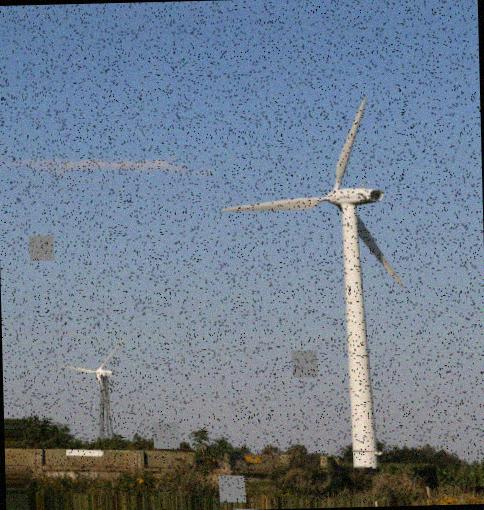wind turbine: (219, 94, 407, 473), (64, 337, 128, 440)
